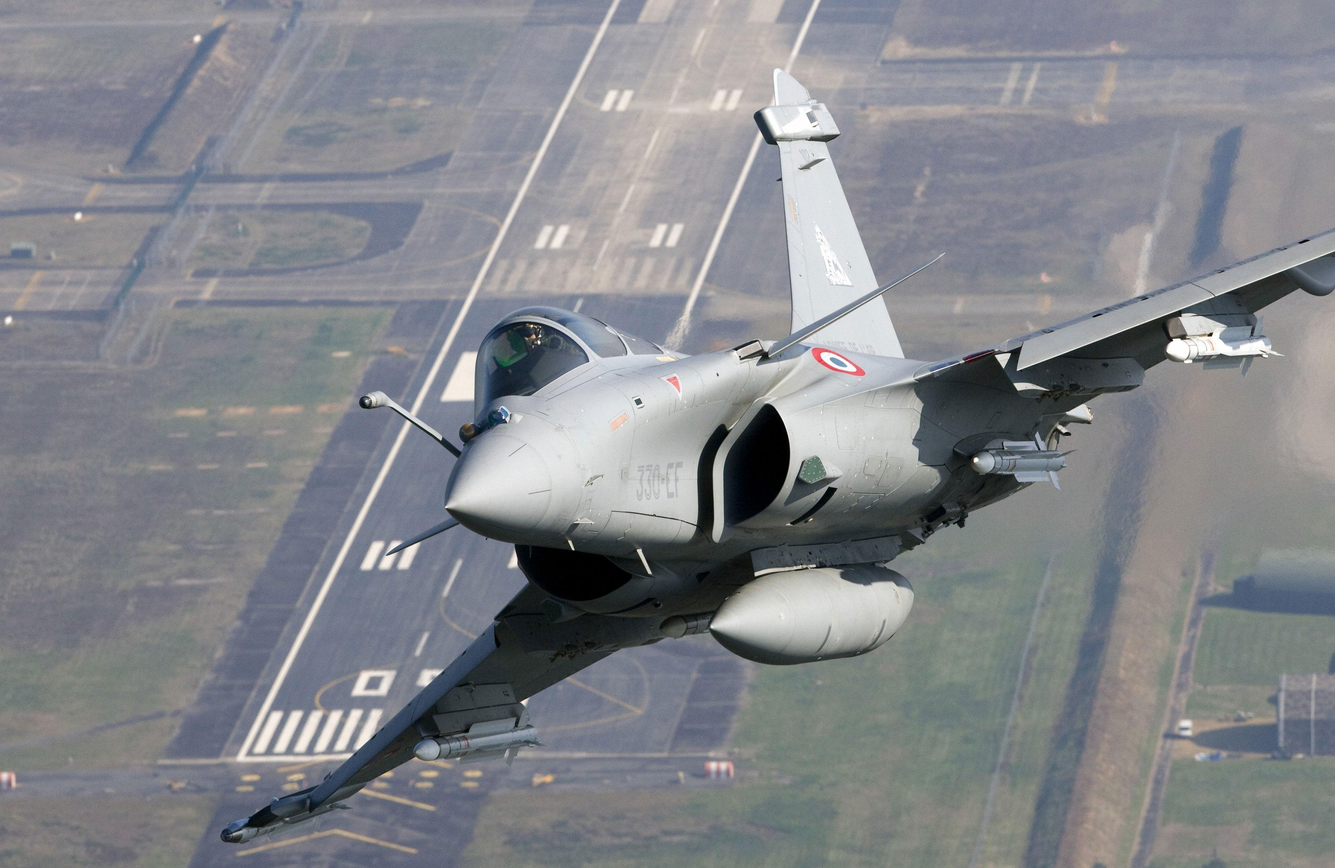aircraft: (164, 65, 1331, 863)
